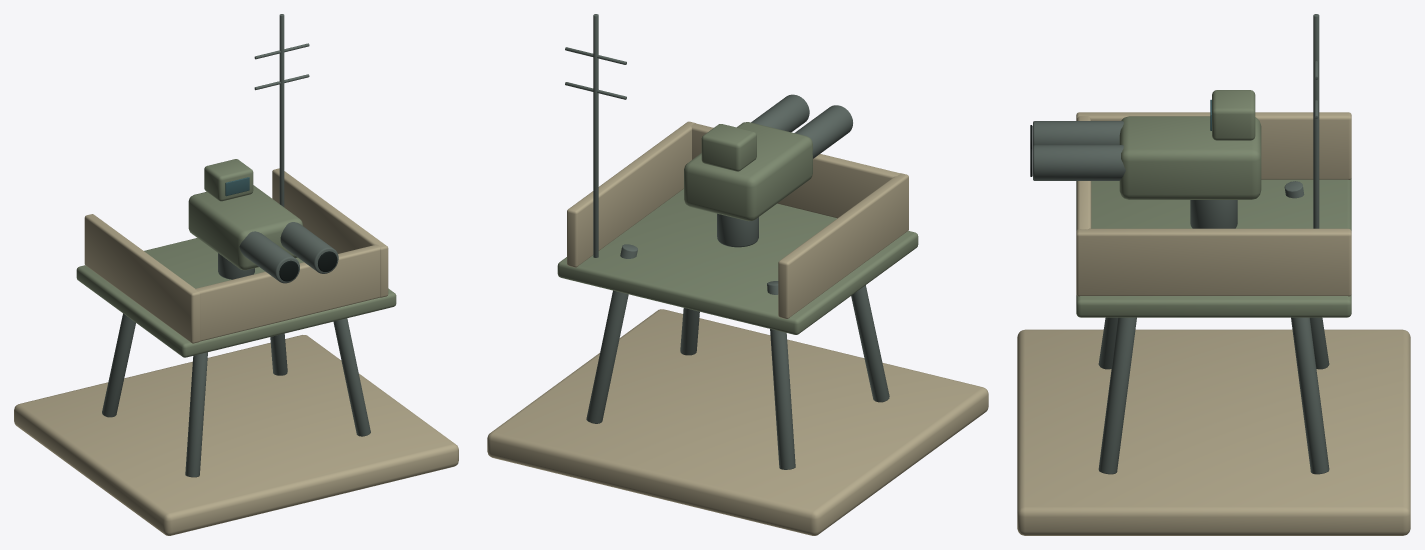
File: sentry.glb
3 views of the same model, side by side, from view 1: azimuth 30°, elevation 25°; view 2: azimuth 150°, elevation 25°; view 3: azimuth 270°, elevation 25° (orthographic). The views are drawn at different scales.
Visible parts, largest first — view 1: Sentry_Sand_armor, Platform, Sentry_Gun_steel, Turret_Field_olive, Turret_Gun_steel, Turret_Black_bore; view 2: Sentry_Sand_armor, Platform, Sentry_Gun_steel, Turret_Field_olive, Turret_Gun_steel; view 3: Sentry_Sand_armor, Platform, Turret_Field_olive, Sentry_Gun_steel, Turret_Gun_steel.
Part boxes in pixels (x1,y1,x2,y2): Sentry_Sand_armor: (14,168,458,535); Platform: (76,238,396,357); Sentry_Gun_steel: (102,14,370,477); Turret_Field_olive: (188,159,302,270); Turret_Gun_steel: (218,222,338,283); Turret_Black_bore: (279,251,337,281); Sentry_Sand_armor: (487,121,988,535); Platform: (557,189,918,334); Sentry_Gun_steel: (565,14,889,469); Turret_Field_olive: (684,122,812,221); Turret_Gun_steel: (717,94,852,247); Sentry_Sand_armor: (1017,112,1410,535); Platform: (1076,178,1351,317); Turret_Field_olive: (1119,90,1261,199); Sentry_Gun_steel: (1098,14,1329,474); Turret_Gun_steel: (1033,121,1237,228).
Size of the model in its own units: 5.5 by 6.8 by 5.
